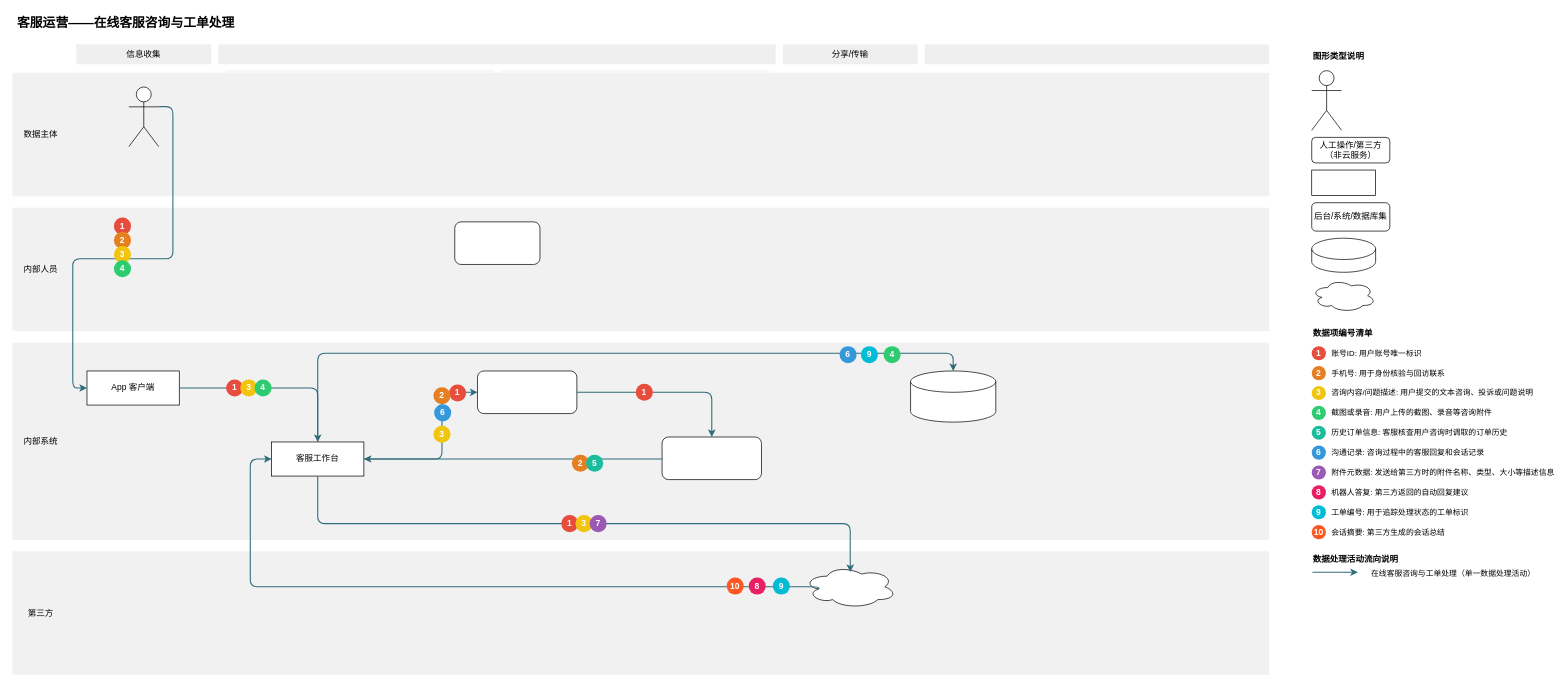
Some shapes in this 1566 by 687 pixel diagram are drawn without their labels. The shapes that lost their labels are listed below. From the top down, each one's box as (x1, y1, x2, y2) in pixels, then its label:
(218, 44, 775, 64): 存储/使用
(924, 44, 1269, 64): 归档/删除
(128, 86, 159, 147): 用户
(1311, 70, 1342, 130): 数据主体（用户）
(1311, 169, 1376, 196): 界面/功能名称
(454, 221, 540, 264): 客服人员
(1311, 237, 1376, 272): 文档/存储
(1311, 279, 1376, 312): 第三方云服务
(477, 370, 577, 414): 工单系统
(910, 370, 996, 422): 录音/会话存储系统
(661, 436, 761, 480): 用户中心
(803, 565, 896, 608): 微服Cloud
